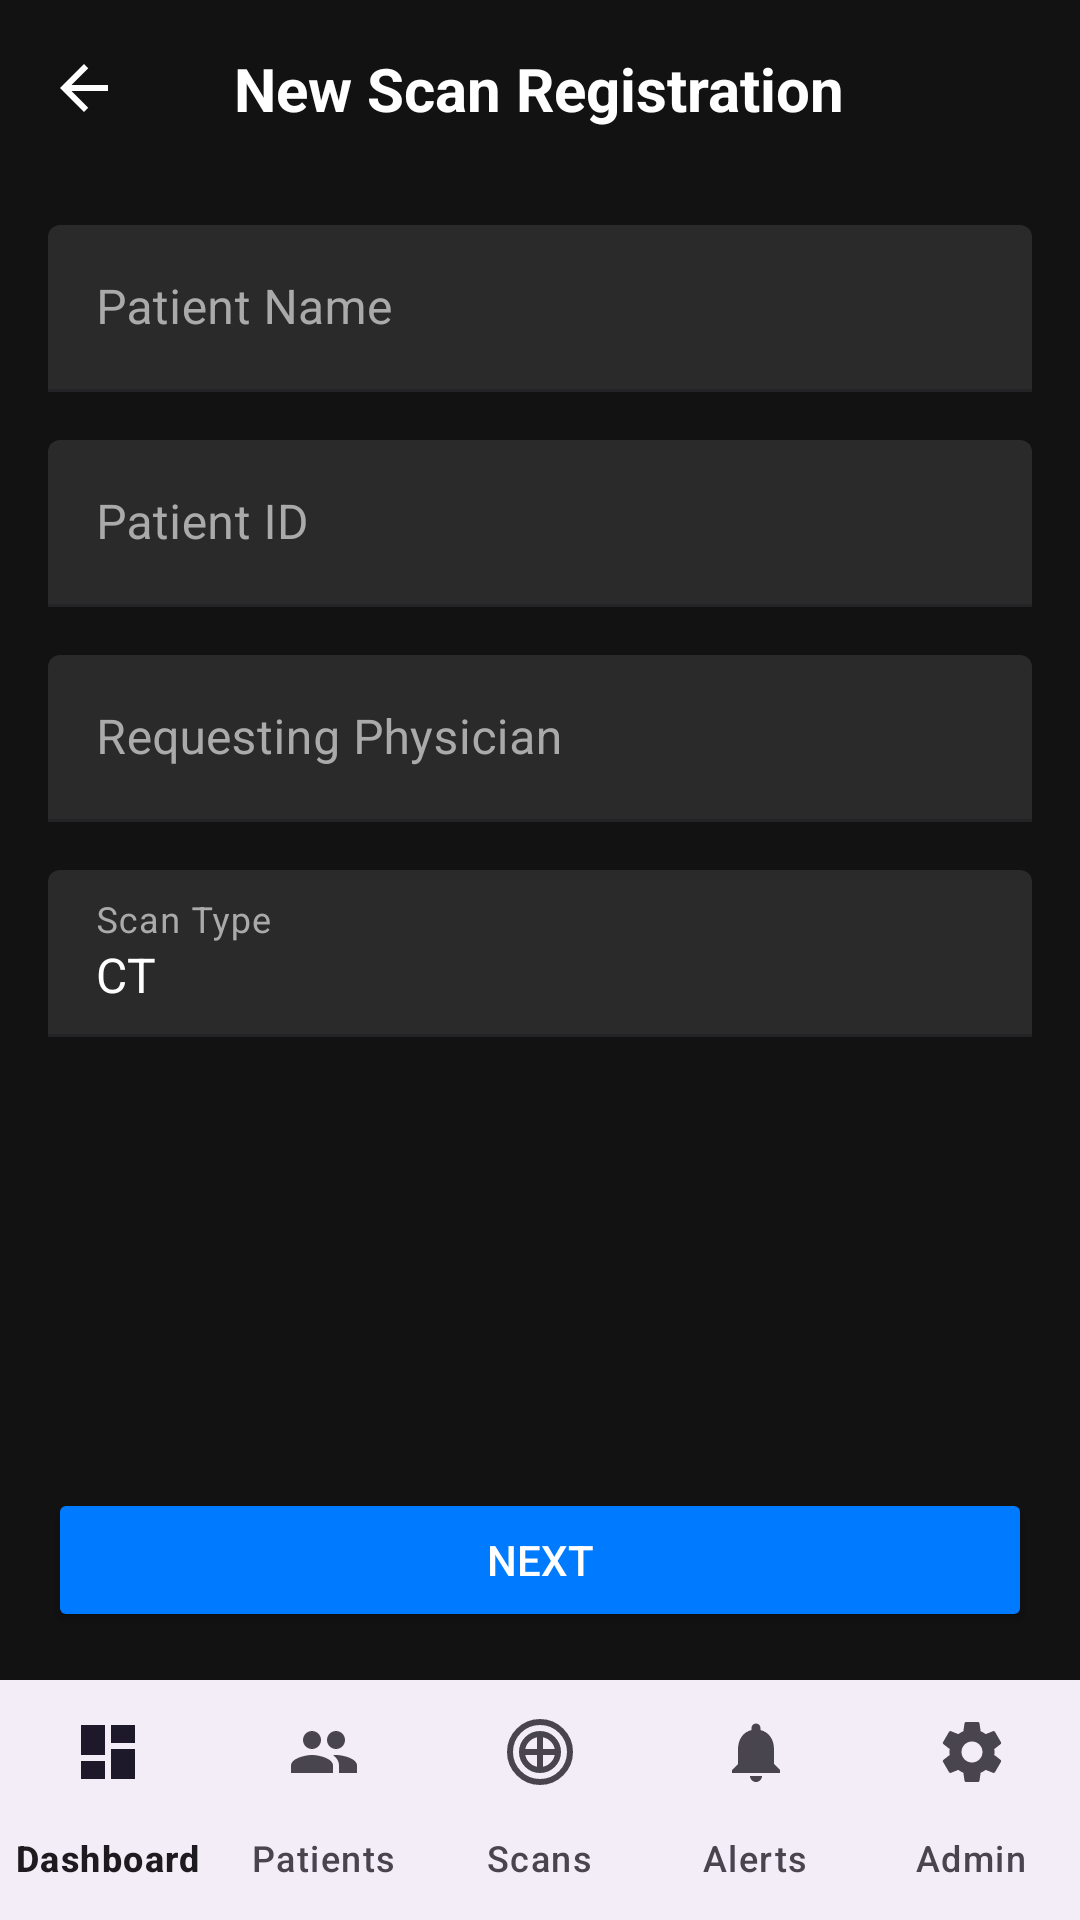

Icons on this 1080*1920 Android screen, each with the point to tap as point (x, y):
arrow back: point (84, 88)
